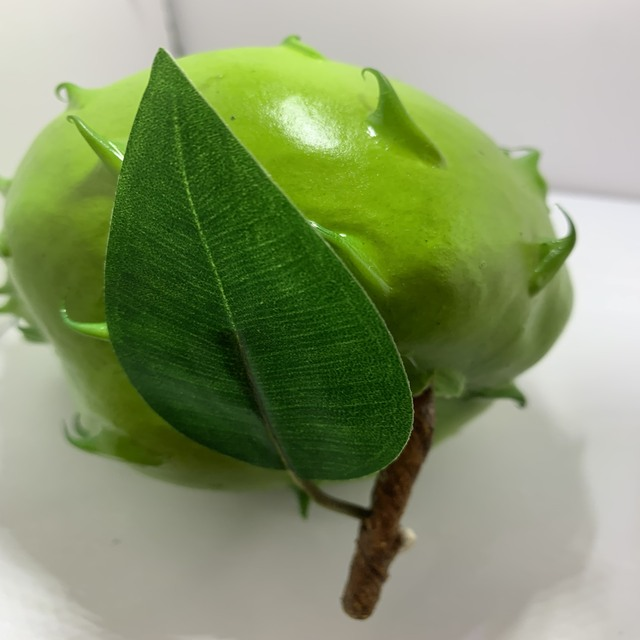Man cau: (0, 34, 583, 504)
